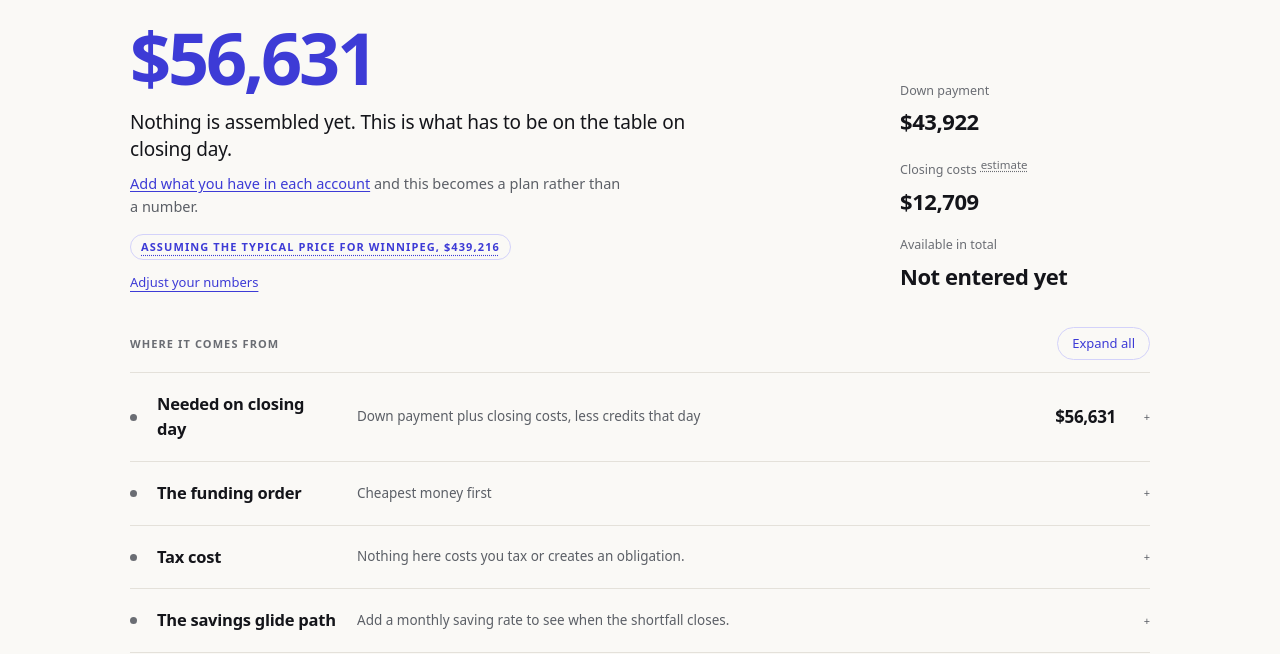
Down payment — the ask can be answered from where it is made › drops the ask once a balance exists
The image size is (1280, 654).
Click the button "The funding order Cheapest money first +" at (229, 492), box [130, 462, 1150, 525]
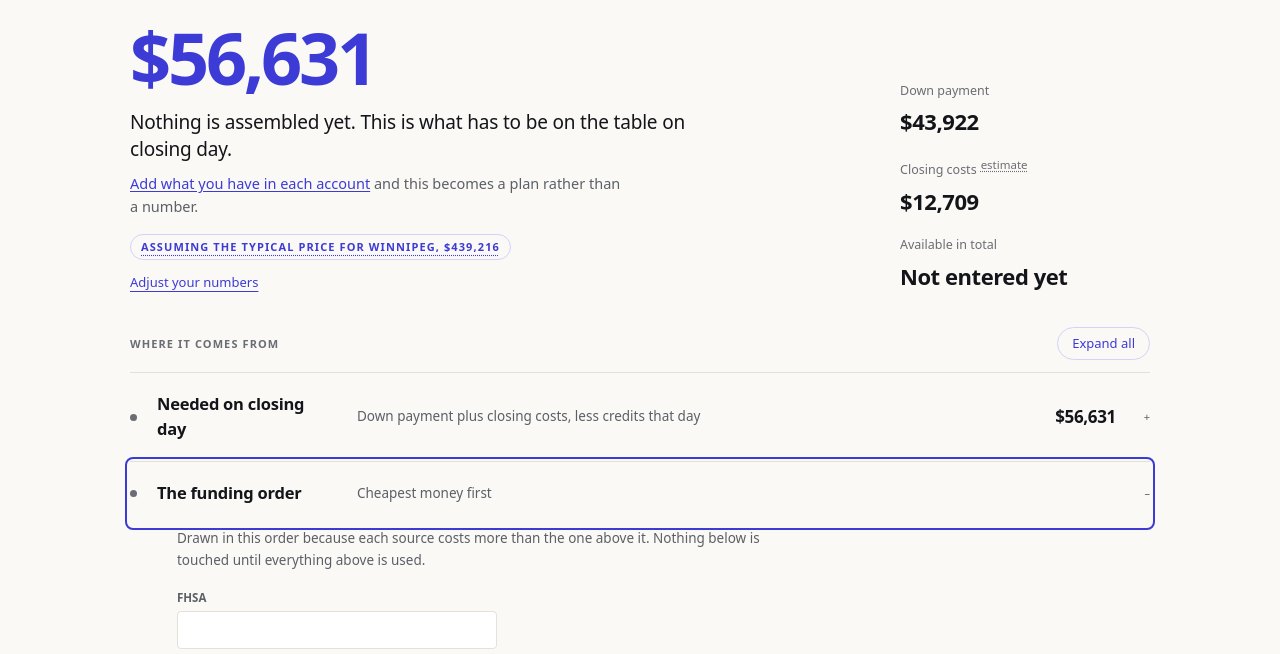
Type "1000" into the field labelled "FHSA" at (337, 630), box [177, 610, 497, 648]
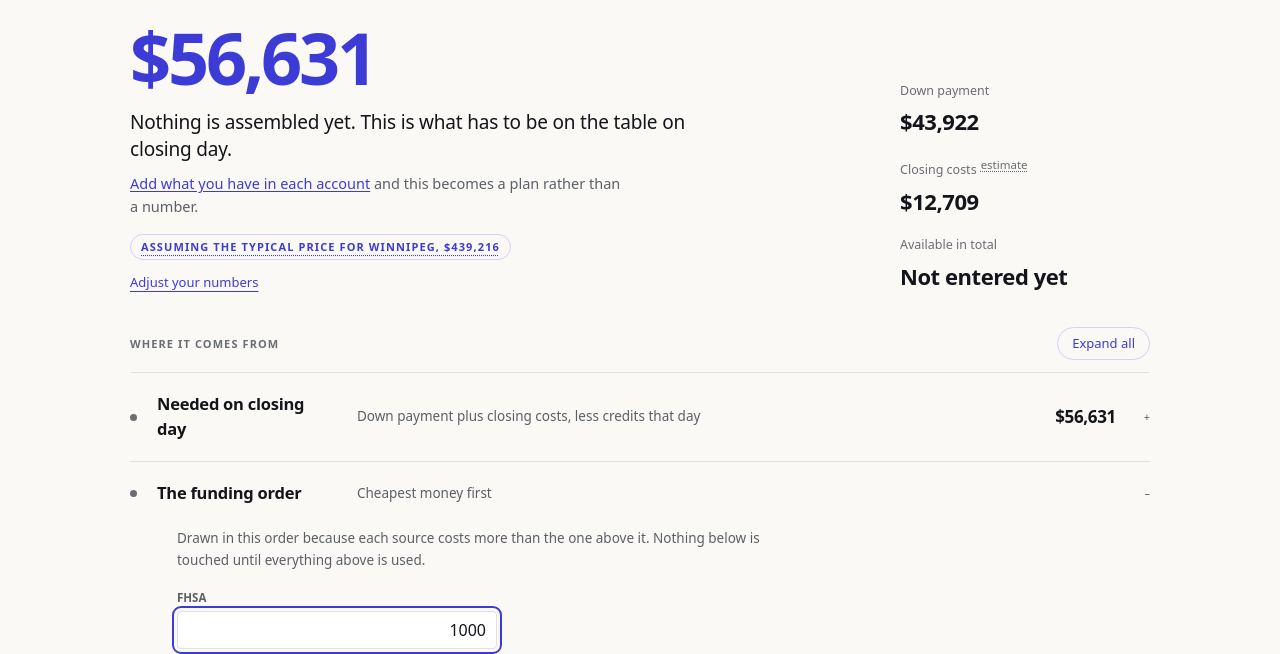
Press Tab
(page scrolled)
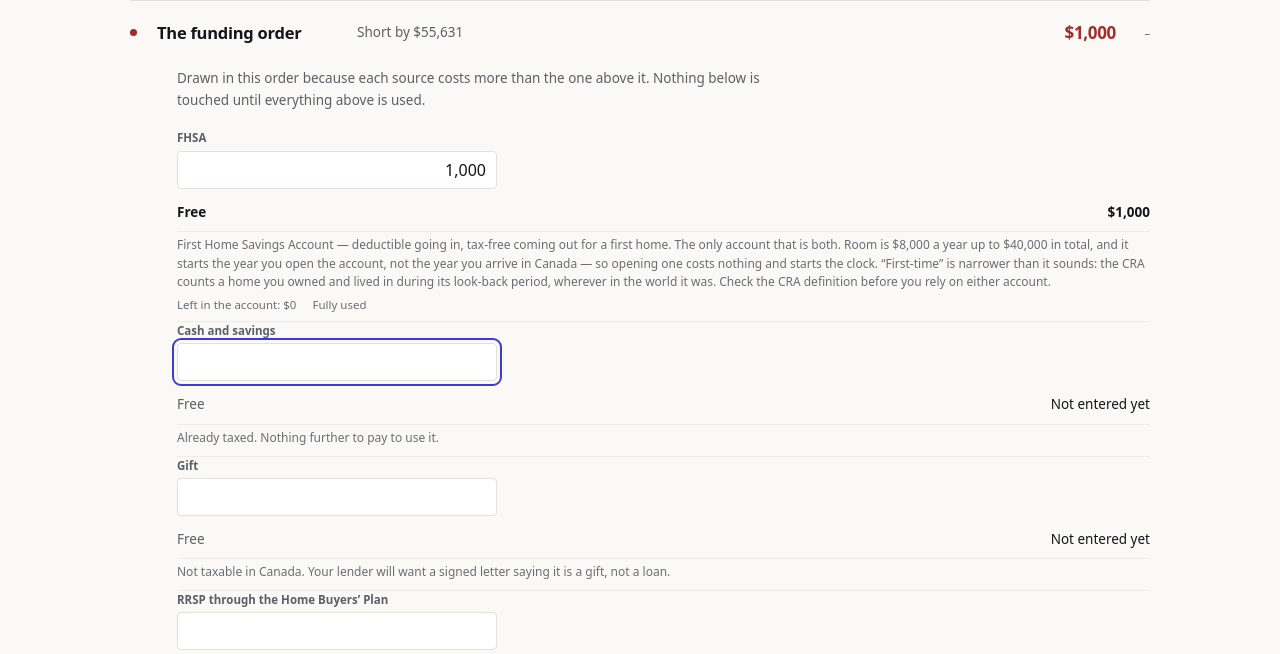
Now the link "Add what you have in each account" is gone
